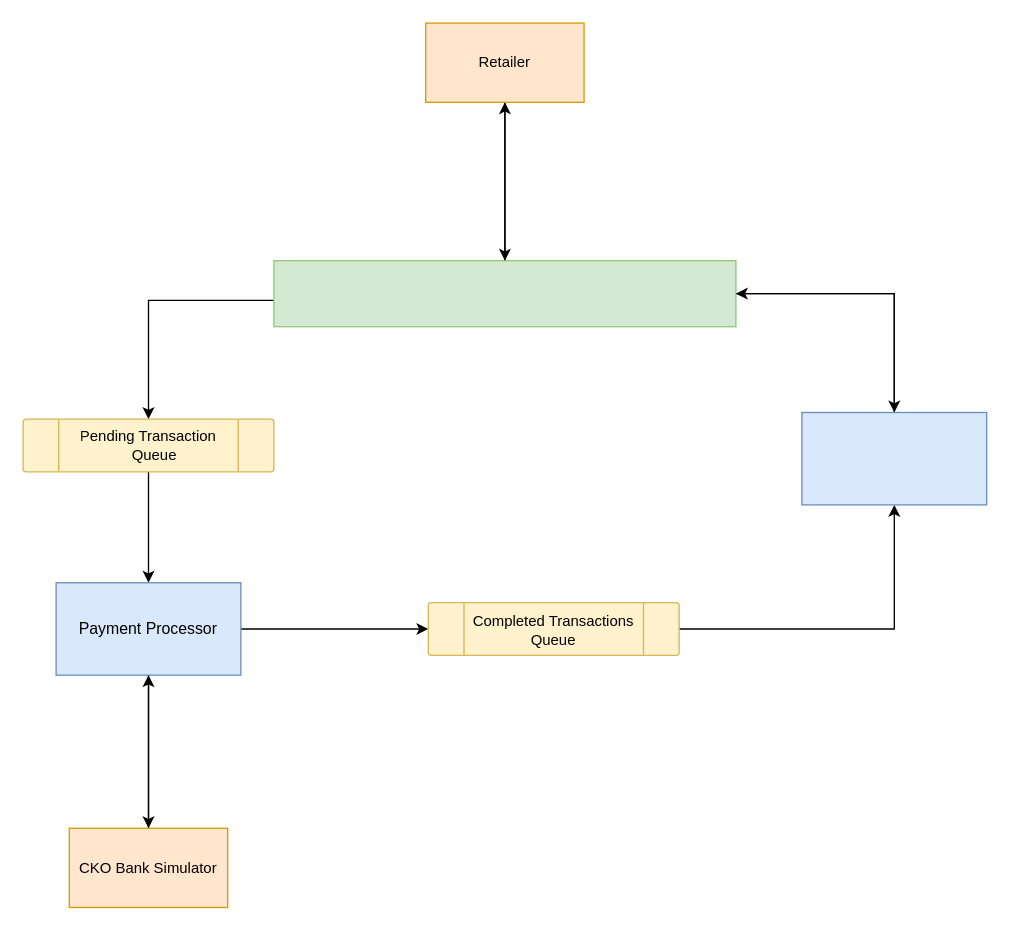
This 1010x931 diagram has some shape labels left out. Each missing label, with the box of its shape:
PaymentGateway: (273, 259, 736, 327)
Transactions: (801, 411, 987, 505)
